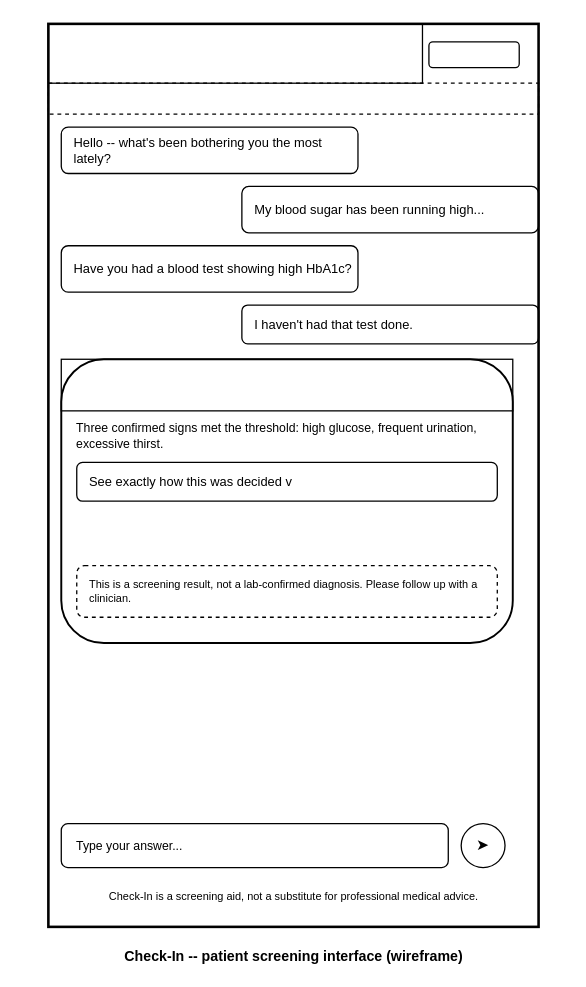
The diagram is 586 pixels wide and 987 high, and some of its shapes have lost their labels. Here are the shapes that lost their labels. From the top down, the centre of each, then its label:
At point 234,53: "+ Check-In Symptom screening · rule-based reasoning".
At point 473,54: "↻ Restart".
At point 293,98: "[ Not a diagnosis ] [ Every result is traceable ] [ No account needed ]".
At point 286,384: "✓ THIS CONFIRMS Diabetes".
